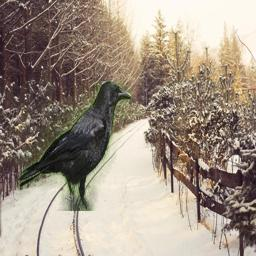Crow: (18, 81, 132, 211)
